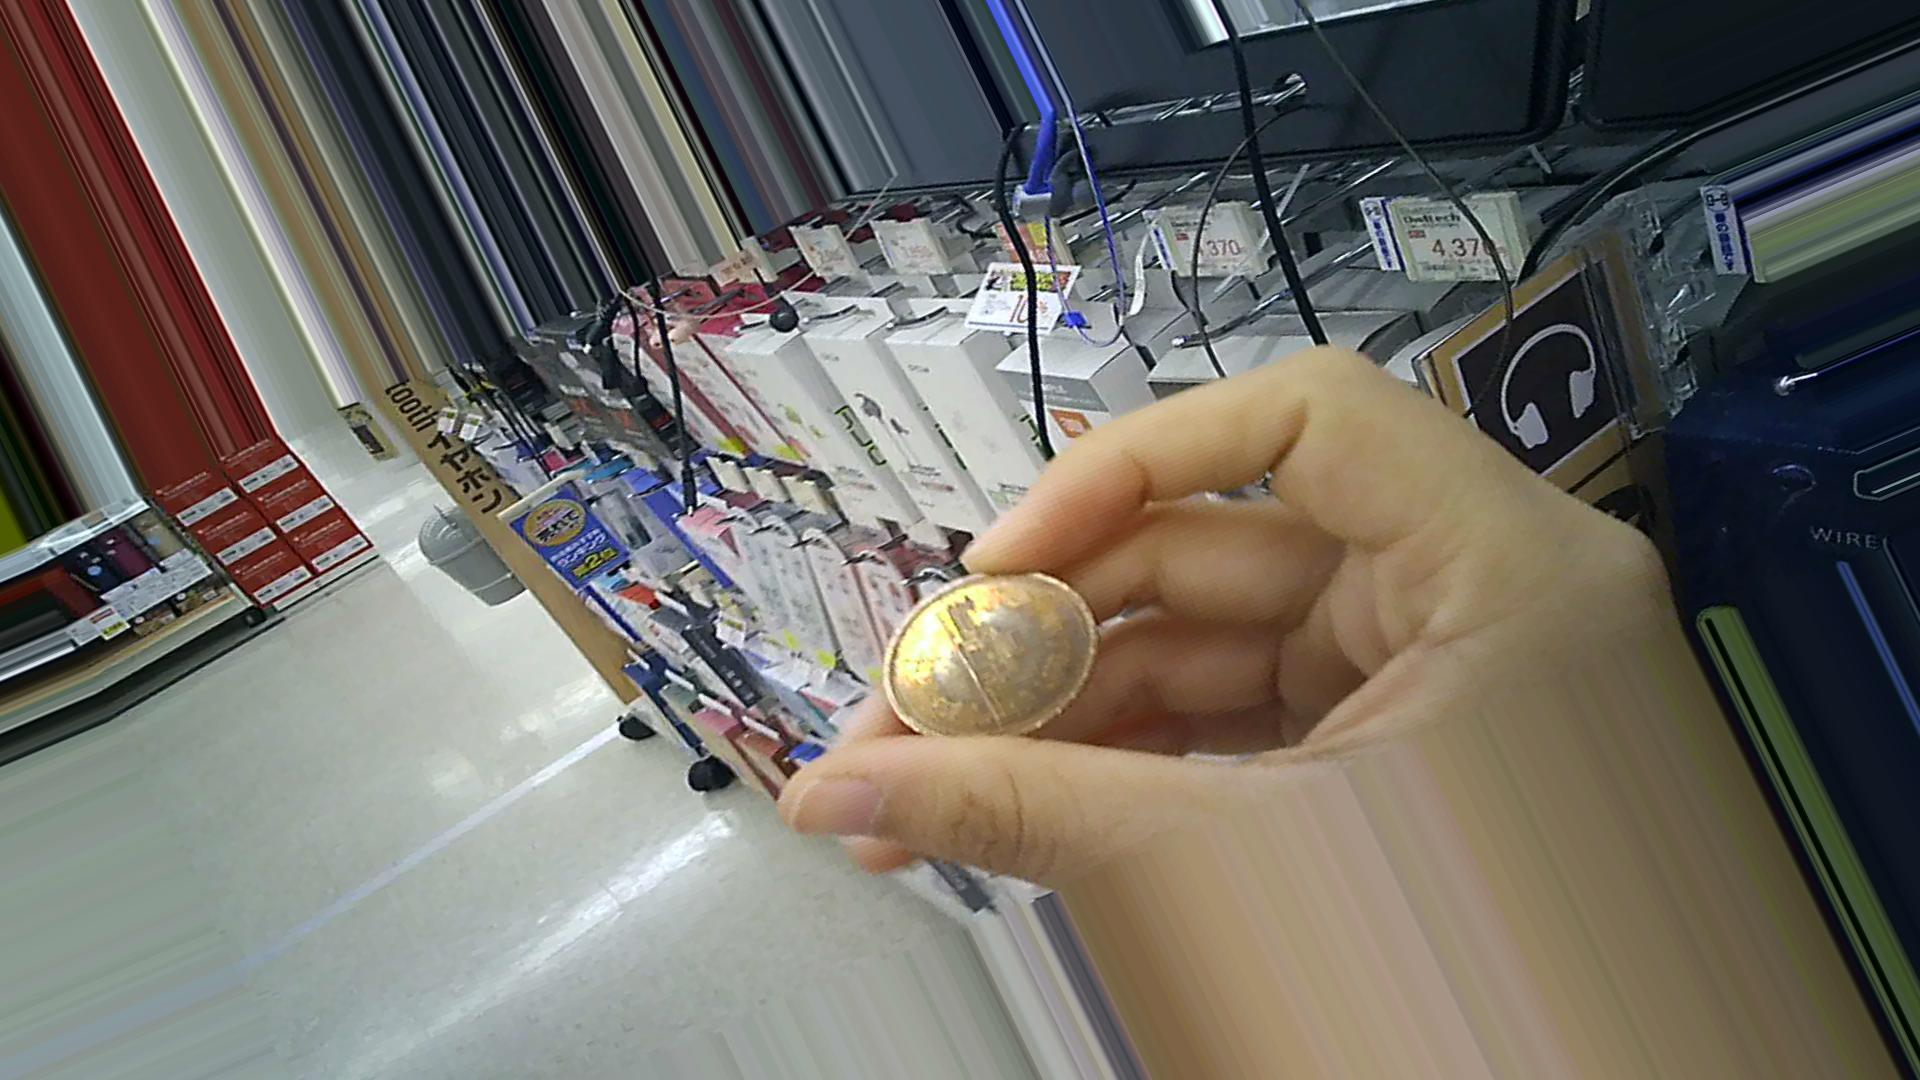10 Yen: (882, 571, 1105, 737)
